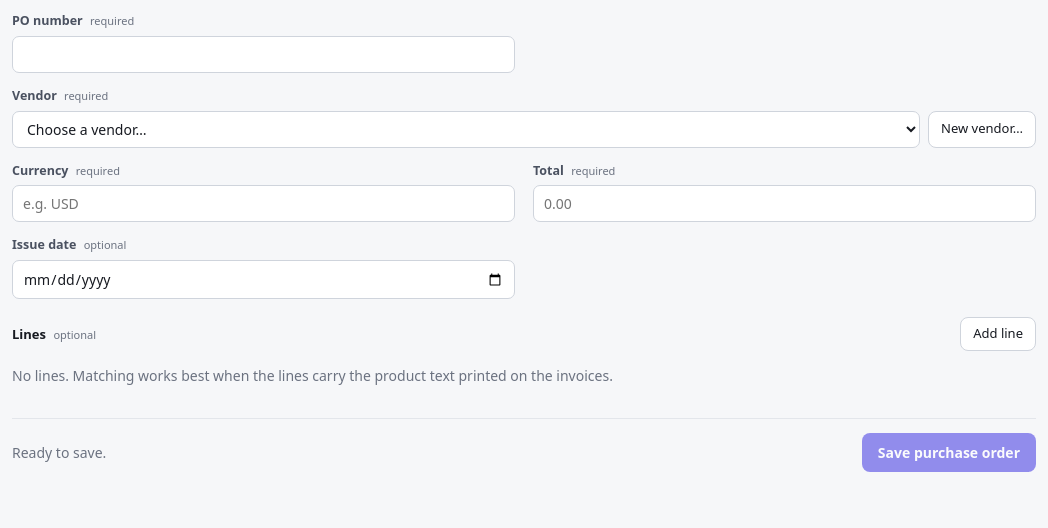
Scenario: POForm (manual path) › shows a refused save's reason and issues
This screenshot has width=1048, height=528.
Type "PO-SS-001" into the field labelled "PO number required" at (264, 54), box [12,36,515,73]
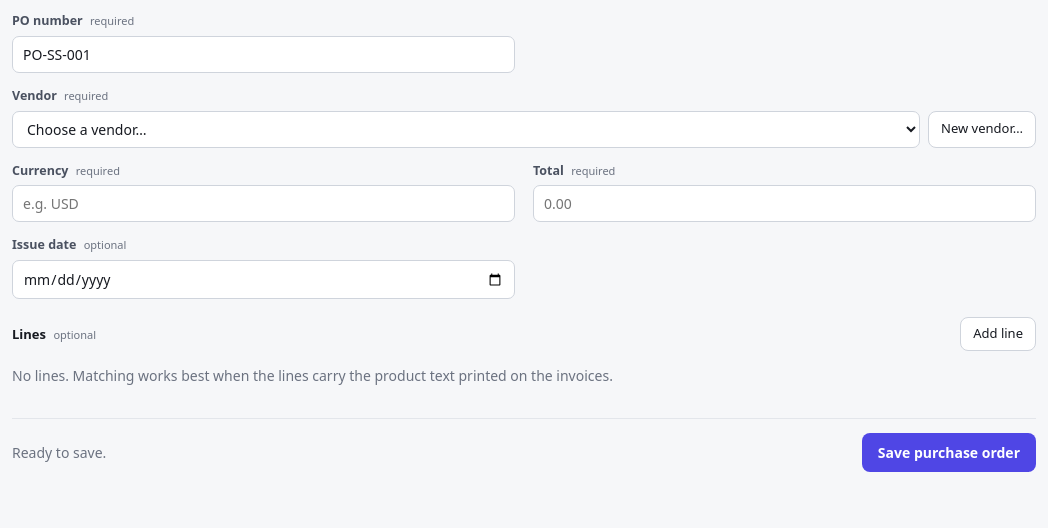
Result: the button "Save purchase order" is enabled
Click the button "Save purchase order" at (949, 452), box [862,432,1036,472]
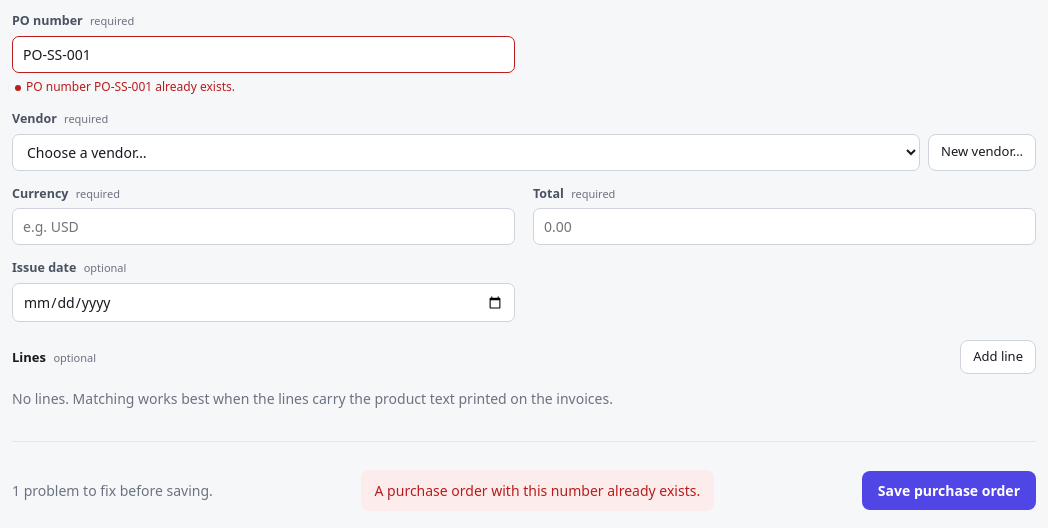
Result: the message shows "already exists" at [374,480,700,500]
Result: the list item "PO number PO-SS-001 already exists." is shown at [26,78,235,95]
